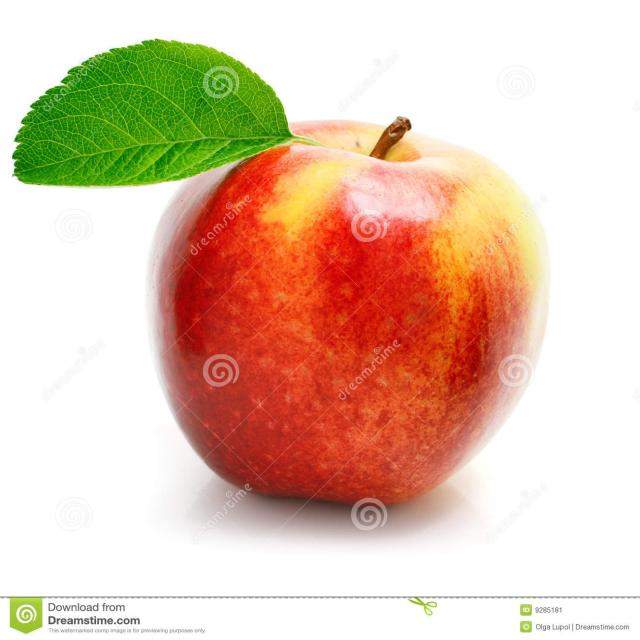apple: (10, 36, 562, 514)
